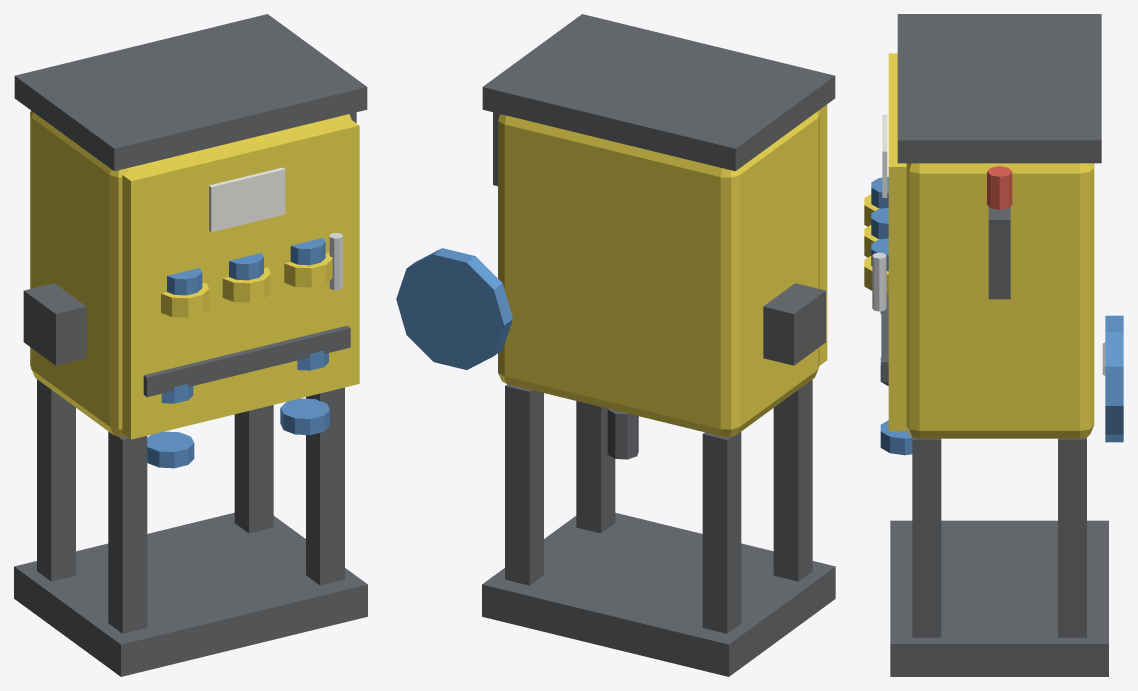
Rendered from demolition-and-site-clearance-demolition-and-site-clea-cfd1727d__35712.glb.
3 renders of one model, left to right at view 1: azimuth 30°, elevation 25°; view 2: azimuth 150°, elevation 25°; view 3: azimuth 270°, elevation 25°, orthographic. The views are drawn at different scales.
Parts seen in each view (by area): view 1: demolition-and-site-clearance-temporary-power-distro, distro-door/yellow, distro-door/charcoal, distro-door/cream, distro-door/blue, distro-door/steel; view 2: demolition-and-site-clearance-temporary-power-distro, distro-door/yellow; view 3: demolition-and-site-clearance-temporary-power-distro, distro-door/yellow, distro-door/blue, distro-door/steel, distro-door/charcoal, distro-door/cream.
Boxes of the visible parts, x1,y1,x2,y2 form: demolition-and-site-clearance-temporary-power-distro: (14,14,367,676); distro-door/yellow: (122,119,359,439); distro-door/charcoal: (143,325,350,397); distro-door/cream: (209,167,285,232); distro-door/blue: (167,237,325,295); distro-door/steel: (329,233,342,290); demolition-and-site-clearance-temporary-power-distro: (396,14,835,676); distro-door/yellow: (819,104,827,365); demolition-and-site-clearance-temporary-power-distro: (880,14,1123,676); distro-door/yellow: (864,53,906,431); distro-door/blue: (871,177,888,271); distro-door/steel: (872,252,886,311); distro-door/charcoal: (881,294,888,382); distro-door/cream: (882,114,887,197).
Bounding box in the file's own units: 1.14 × 1.63 × 0.7114.
